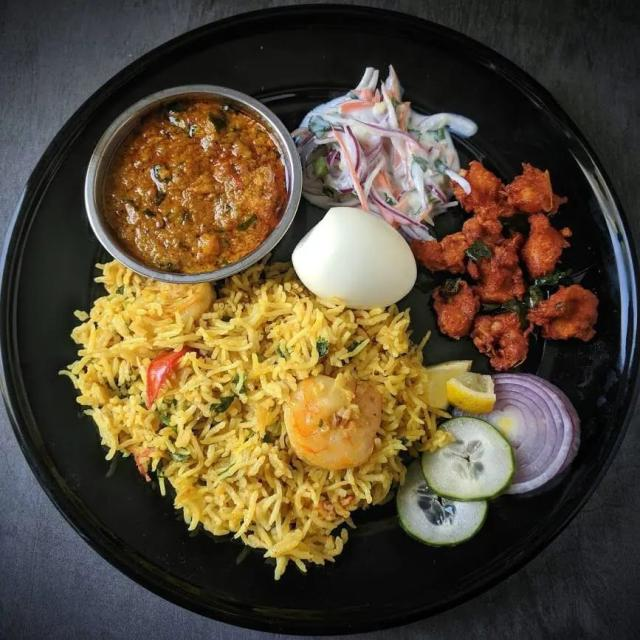non veg meals: (35, 54, 610, 590)
